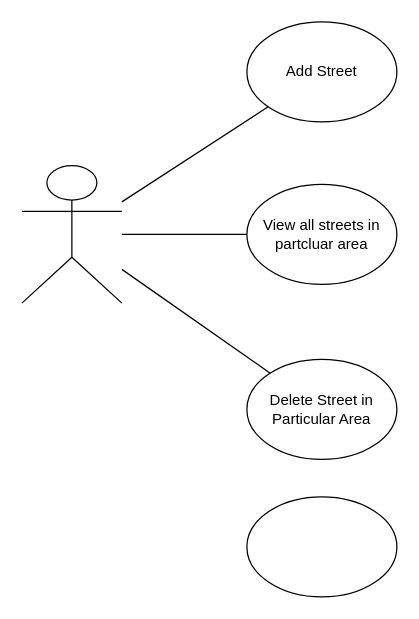
Image size: 419x619. Some labels were removed from this diagram. The shapes that lost their labels are listed below. From the top down, each one's centre as x and y in pixels, then its label:
At pixel 71 233: "Actor".
At pixel 321 546: "Delete a particular street from the database".
